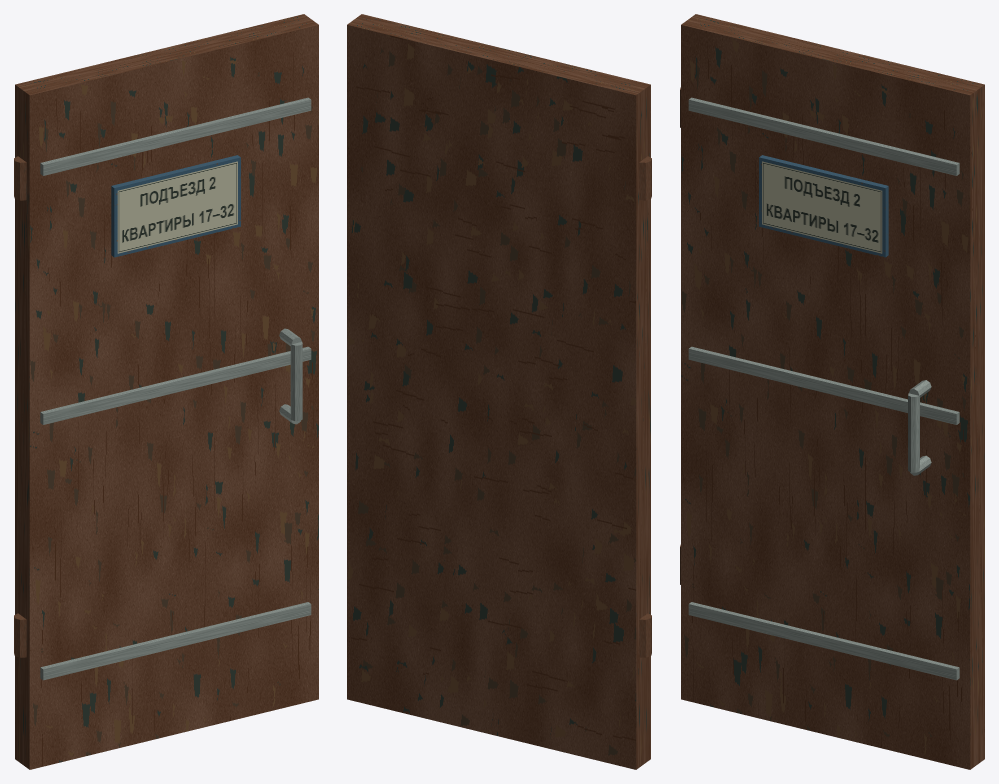
File: CIS_EntranceDoor.obj
3 renders of one model, left to right at view 1: azimuth 30°, elevation 25°; view 2: azimuth 150°, elevation 25°; view 3: azimuth 330°, elevation 25°, orthographic.
Parts seen in each view (by area): view 1: CIS_EntranceDoor; view 2: CIS_EntranceDoor; view 3: CIS_EntranceDoor.
Boxes of the visible parts, x1=… form: CIS_EntranceDoor: x1=14, y1=14, x2=318, y2=769; CIS_EntranceDoor: x1=347, y1=14, x2=651, y2=769; CIS_EntranceDoor: x1=680, y1=14, x2=984, y2=769.
Bounding box in the file's own units: 0.985 × 2.14 × 0.2005.
4 materials, 4 textured.
